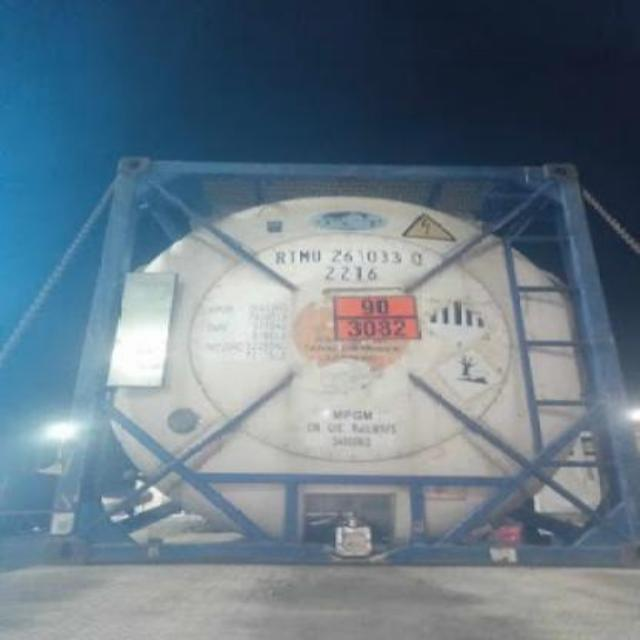0: (364, 241, 376, 265), (410, 246, 422, 266)
1: (354, 240, 364, 264)
2: (328, 242, 340, 266)
3: (390, 242, 402, 270), (378, 241, 390, 267)
6: (342, 240, 354, 264)
M: (296, 246, 310, 264)
R: (274, 248, 286, 268)
T: (288, 248, 298, 264)
U: (310, 246, 324, 264)
